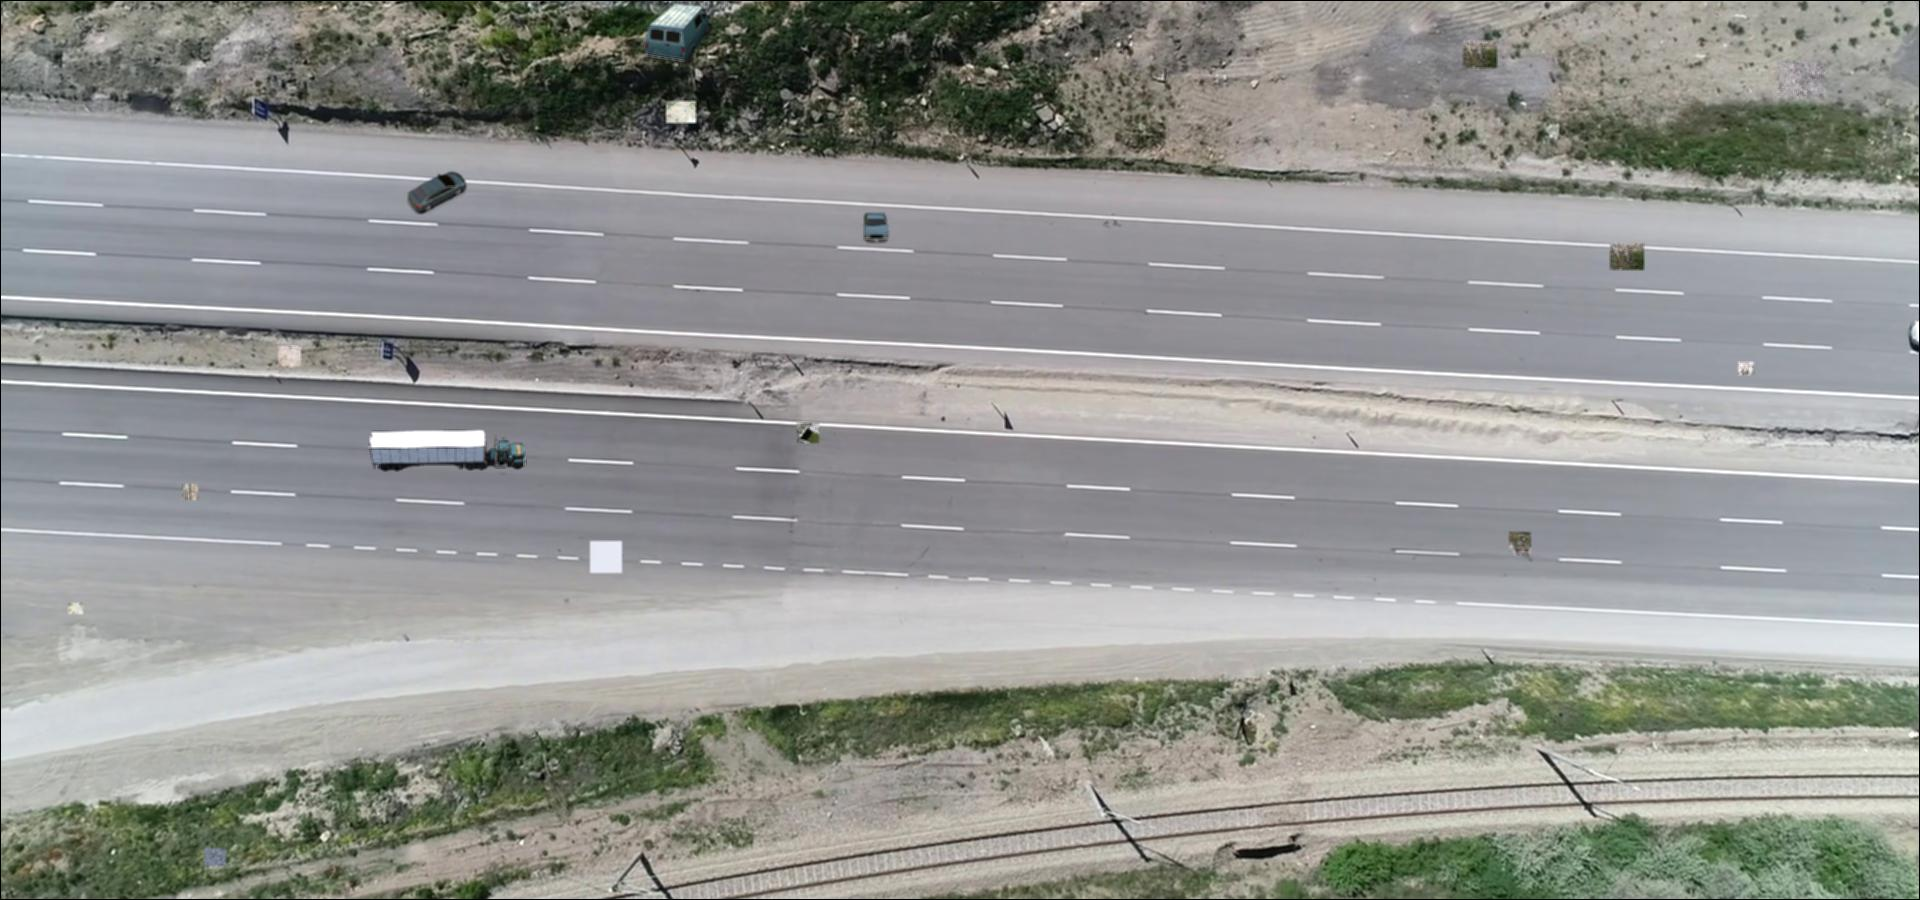arac: (367, 429, 527, 471), (643, 0, 714, 62), (407, 170, 468, 214), (861, 212, 890, 242)
